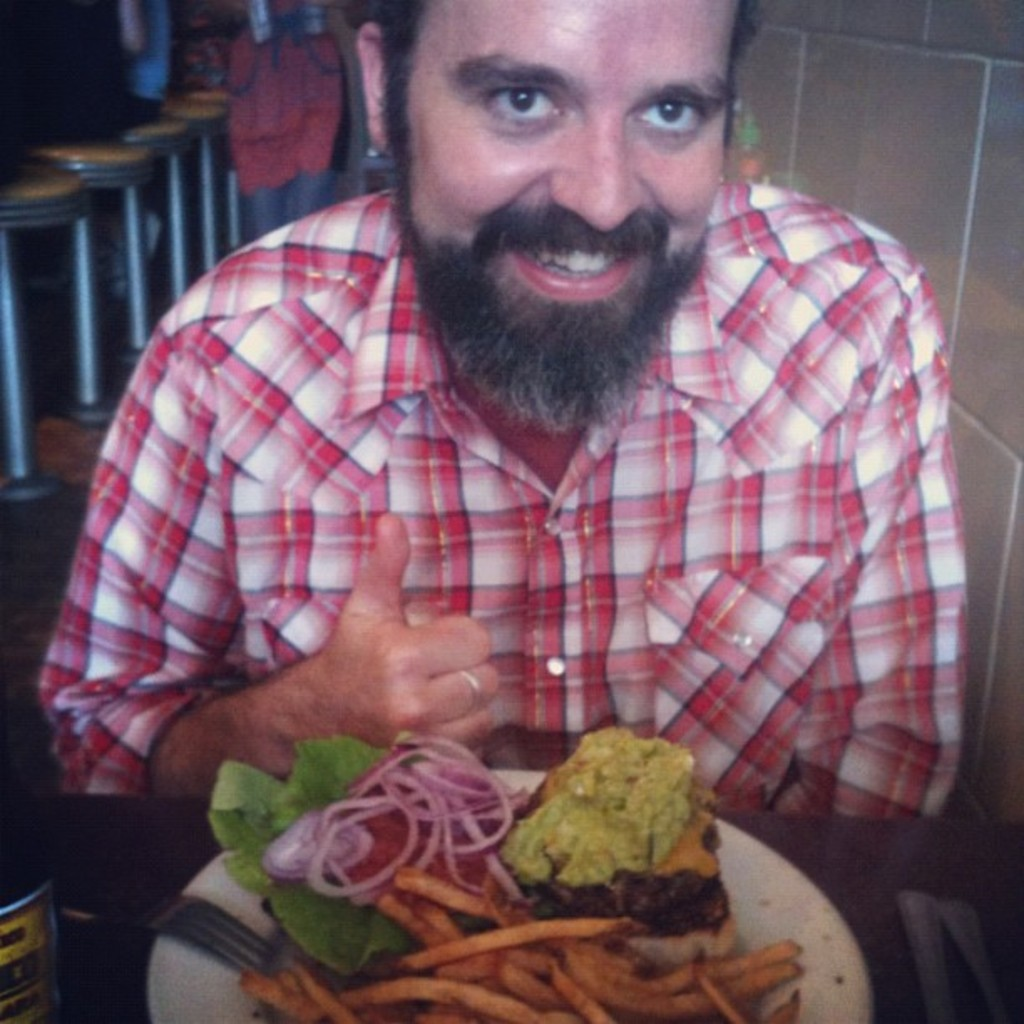French fries: (232, 870, 801, 1022)
